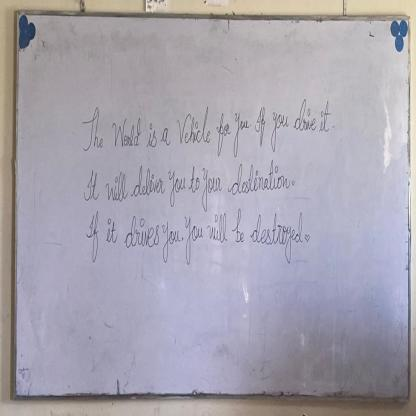Handwritten text: (81, 95, 331, 161), (79, 209, 305, 274), (84, 159, 291, 213)
Whiteboard: (13, 7, 413, 408)
